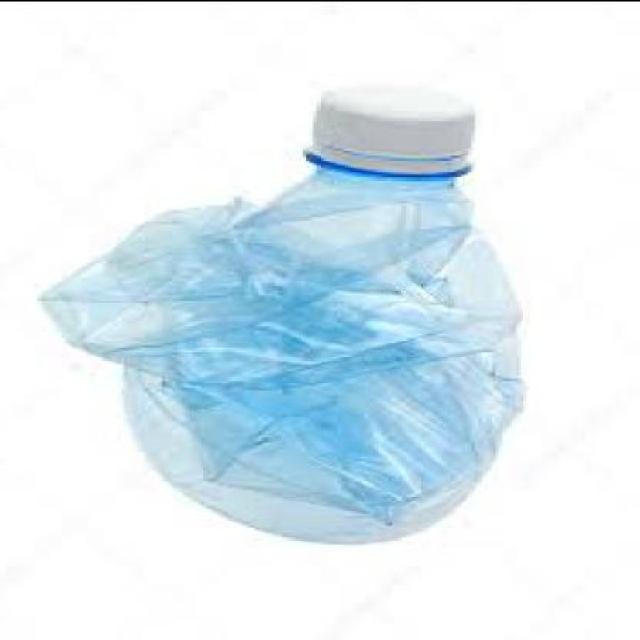PLASTIC: (41, 88, 530, 543), (309, 90, 482, 178)
